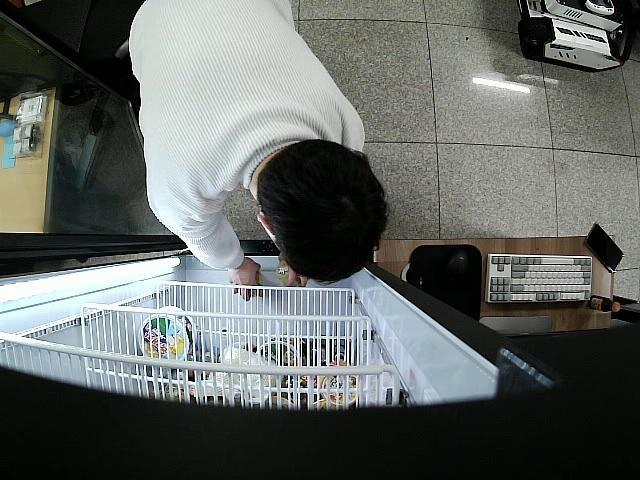04_chapagetti_S: (272, 263, 302, 290), (234, 272, 264, 298)
